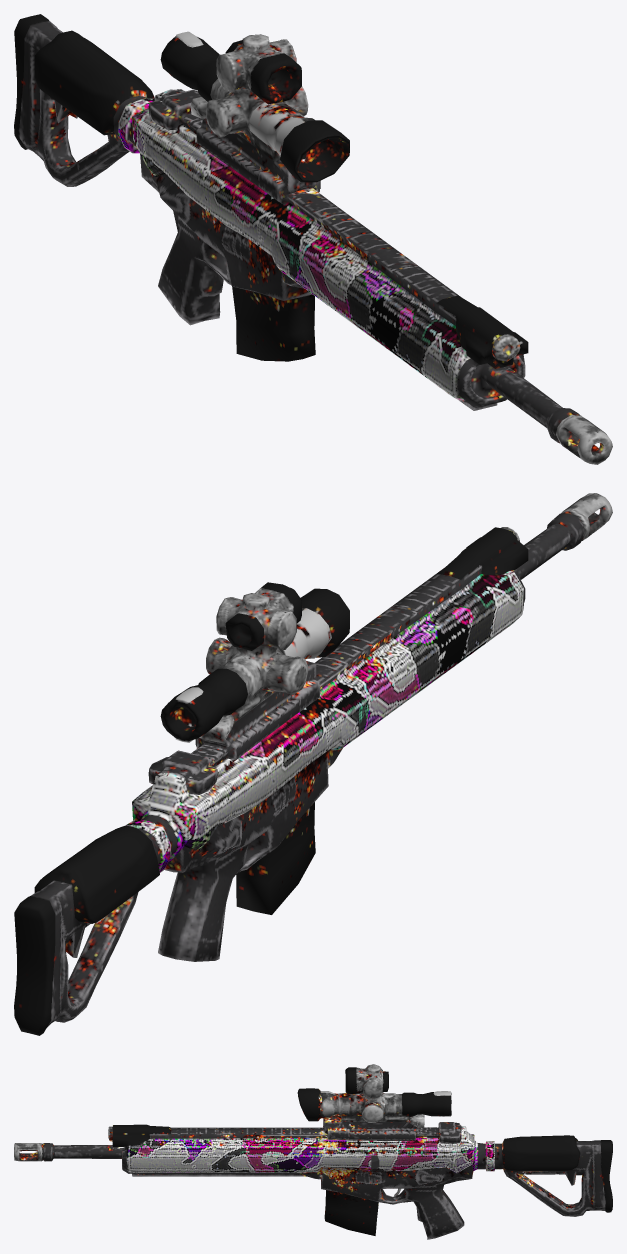
Rendered from Rifle.fbx.
3 renders of one model, top to bottom at view 1: azimuth 30°, elevation 25°; view 2: azimuth 150°, elevation 25°; view 3: azimuth 270°, elevation 25°, orthographic. The views are drawn at different scales.
Visible parts, largest first — view 1: polySurface1; view 2: polySurface1; view 3: polySurface1.
Part boxes in pixels (x1,y1,x2,y2): polySurface1: [14, 14, 612, 464]; polySurface1: [14, 493, 612, 1035]; polySurface1: [14, 1064, 612, 1239].
Size of the model in its own units: 12.73 by 36.55 by 118.
